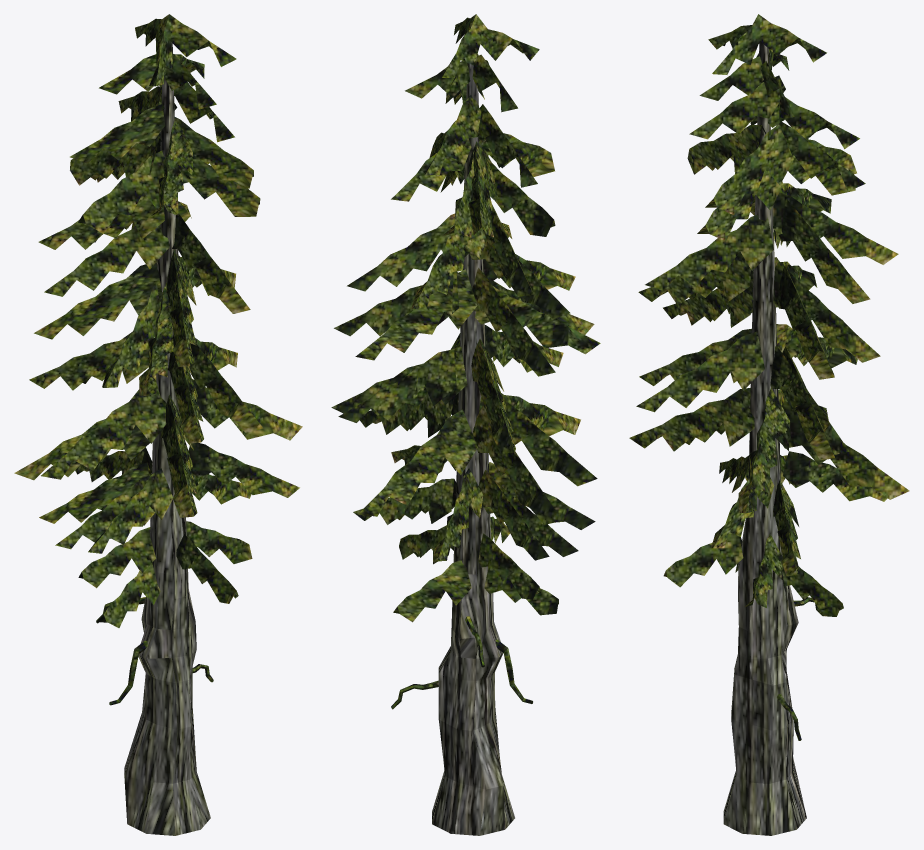
The model's file is tree_03.fbx.
3 renders of one model, left to right at view 1: azimuth 30°, elevation 25°; view 2: azimuth 150°, elevation 25°; view 3: azimuth 270°, elevation 25°, orthographic.
Parts seen in each view (by area): view 1: Tree_Type0_03_fix_mesh; view 2: Tree_Type0_03_fix_mesh; view 3: Tree_Type0_03_fix_mesh.
Part boxes in pixels (x1,y1,x2,y2): Tree_Type0_03_fix_mesh: (14, 14, 302, 835); Tree_Type0_03_fix_mesh: (331, 14, 600, 835); Tree_Type0_03_fix_mesh: (629, 14, 909, 835).
Bounding box in the file's own units: 417 × 1271 × 403.
1 material, 1 textured.
